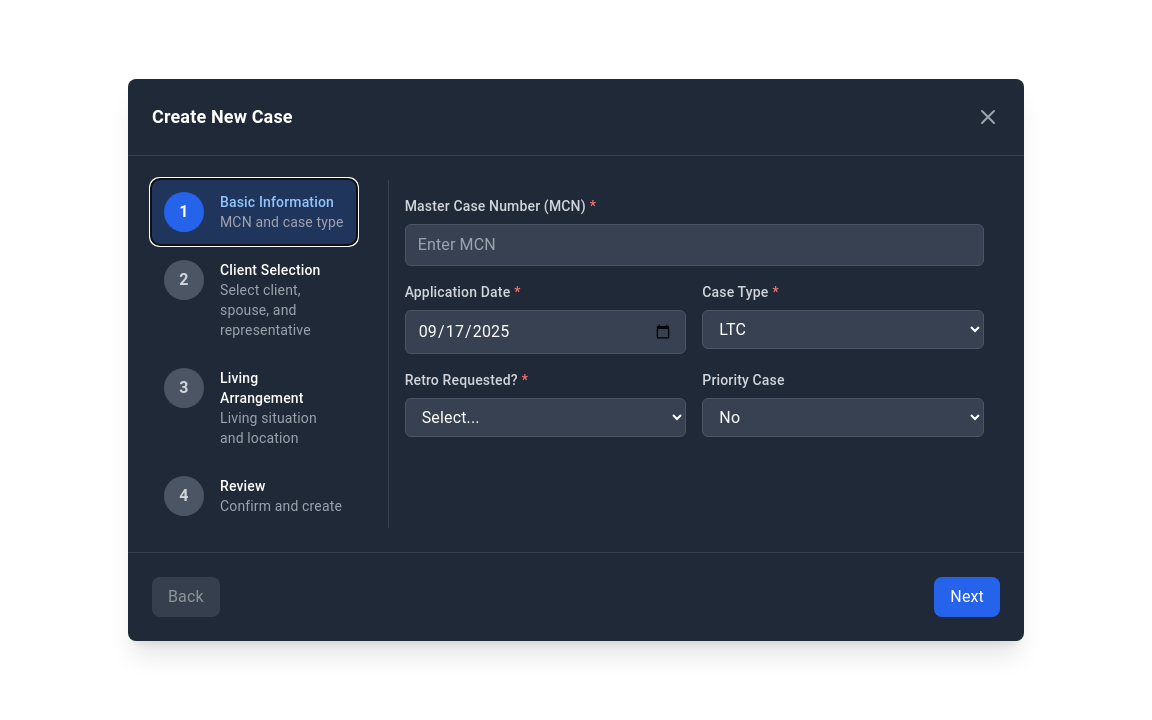
it: CaseCreationModal (business) › shows validation errors when attempting to advance with empty required fields
# Attempt to go to next step
Click the button "Next". click: (967, 597)
box: [934,577,1000,617]
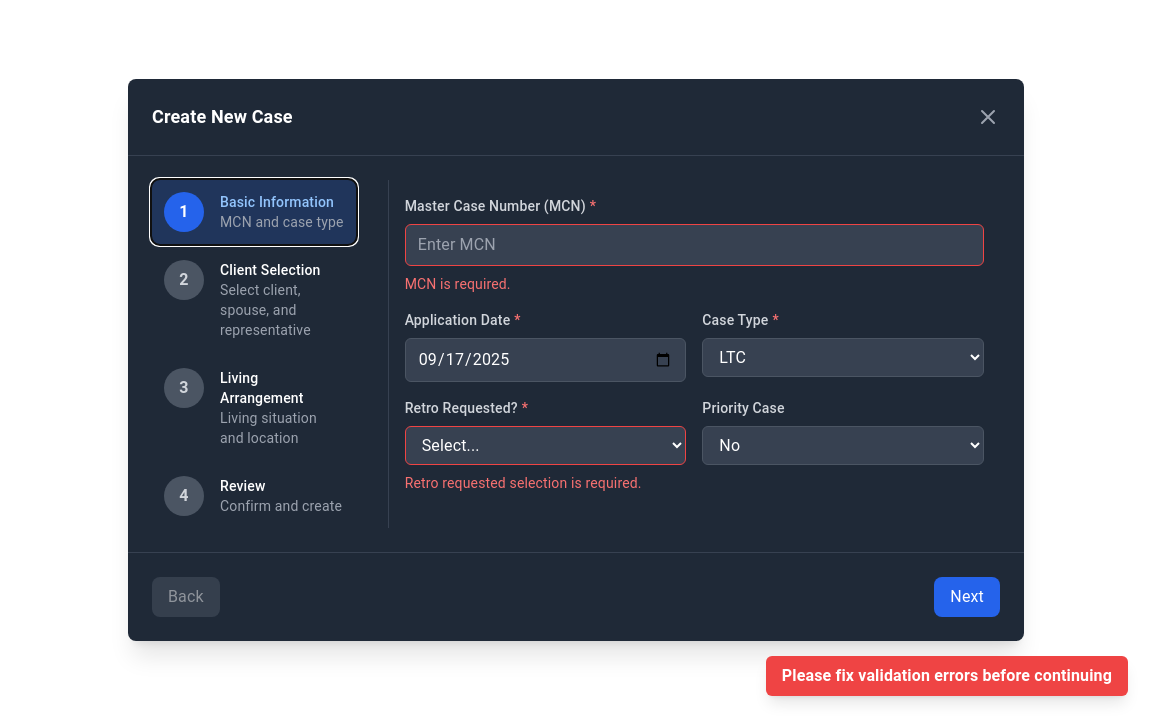
Expected: the heading "Basic Information" is shown, [220,192,344,212]
Now the text "MCN is required." is shown, box [405,276,511,292]
Now the text "Retro requested selection is required." is shown, box [405,475,642,491]
